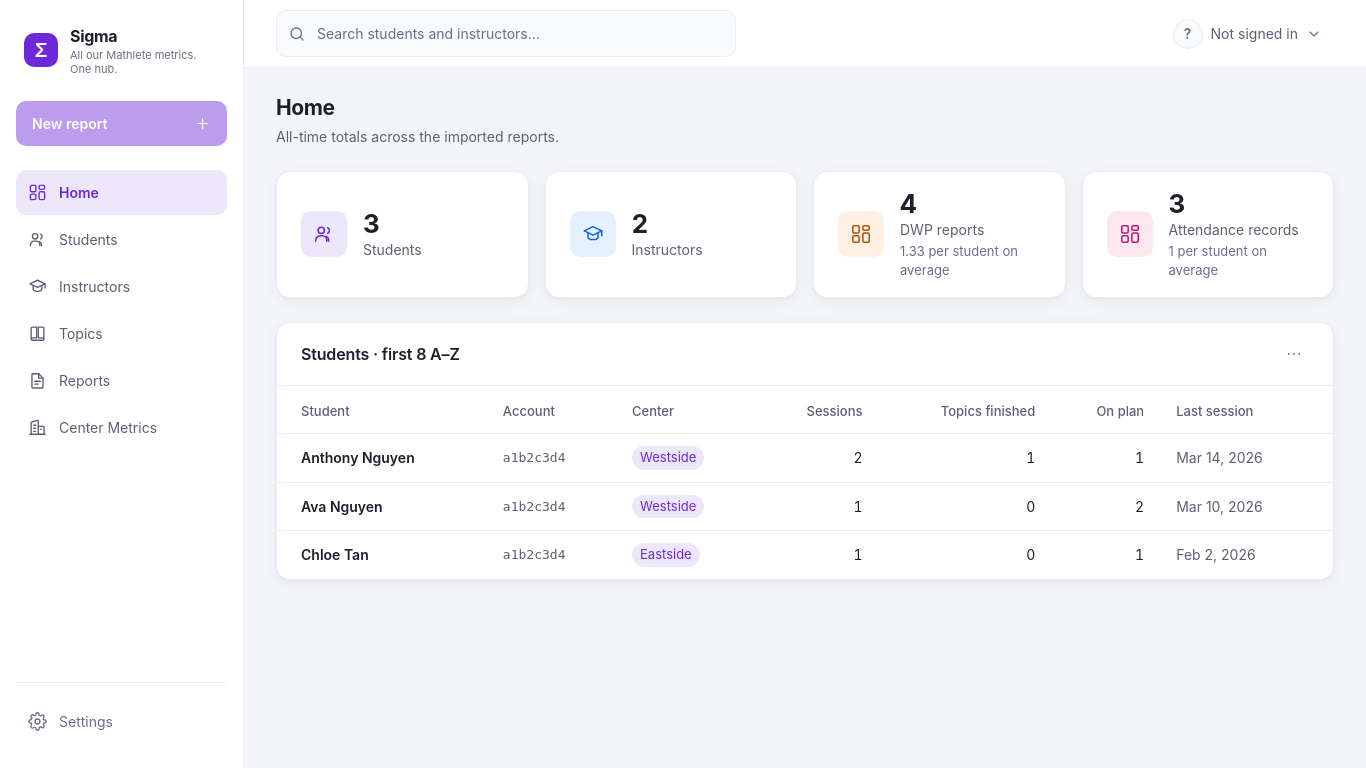
Test: global search › offers "see all" only for a group with more rows than it showed
Type "chloe" into the search field labelled "Search students and instructors…".
click(506, 34); type("chloe")  # box [276,10,736,57]
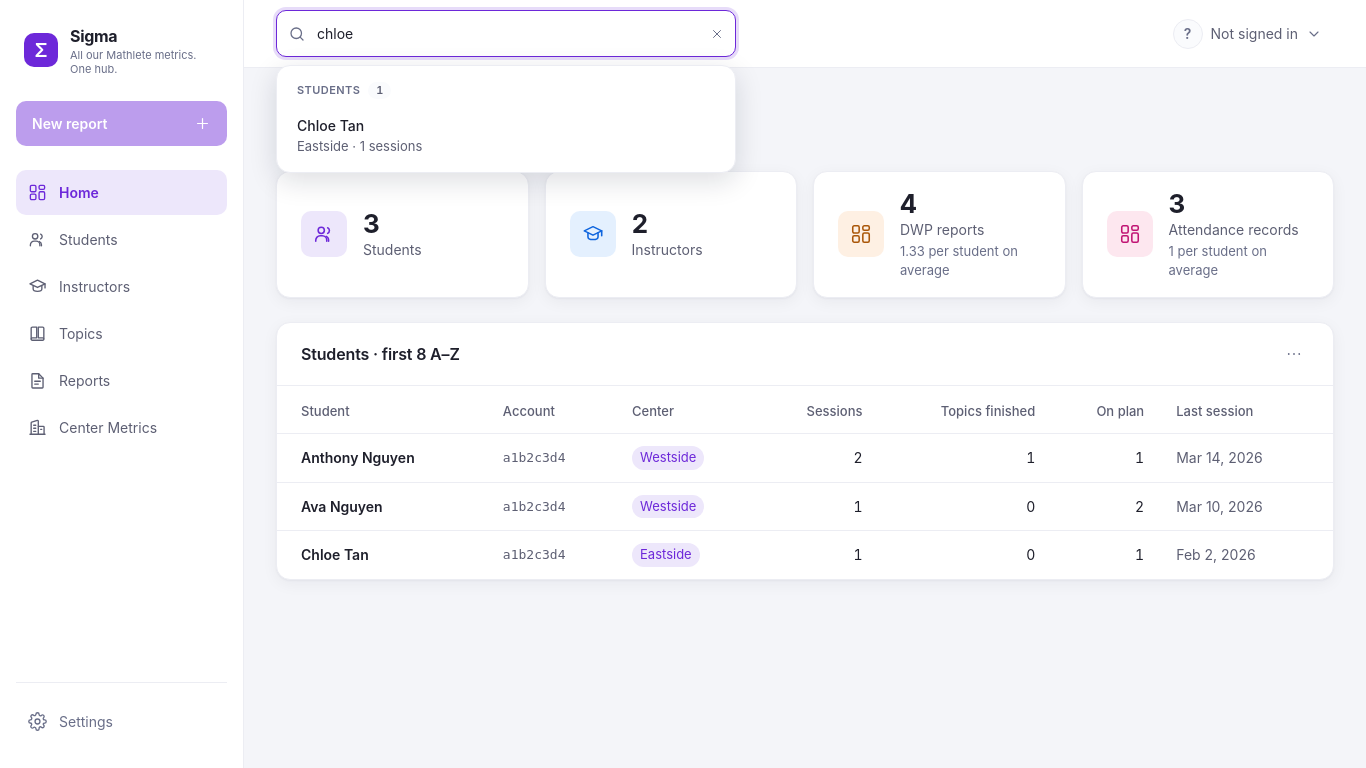
Expected: the button "Chloe Tan Eastside · 1 sessions" is shown, [285,106,727,164]
